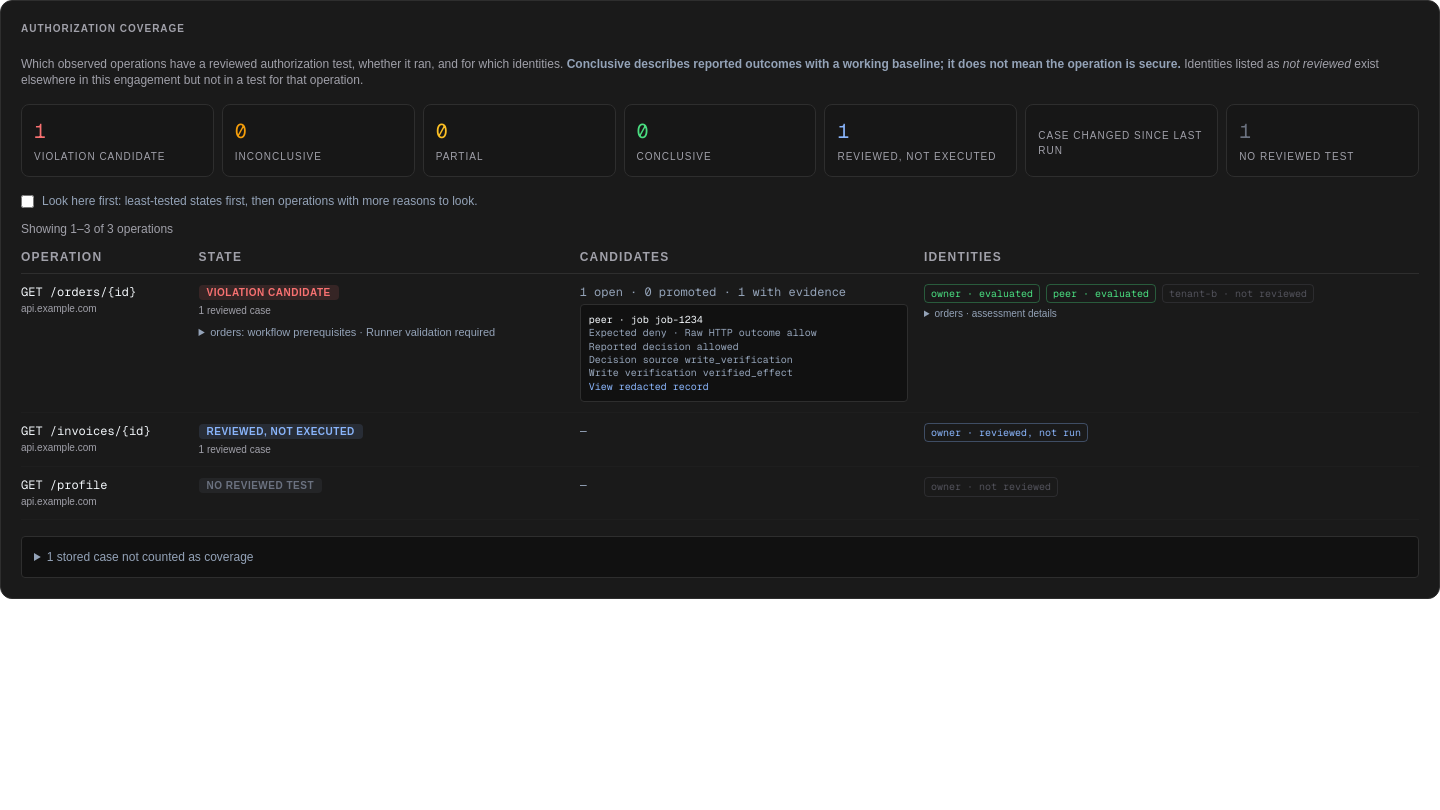
it: AuthorizationCoveragePanel evidence › reports an unavailable reference without falling back to another row
What coordinates should you click on to do the following:
click the button "View redacted record"
I would click on:
 (649, 386)
Its box is [589,380,709,393].
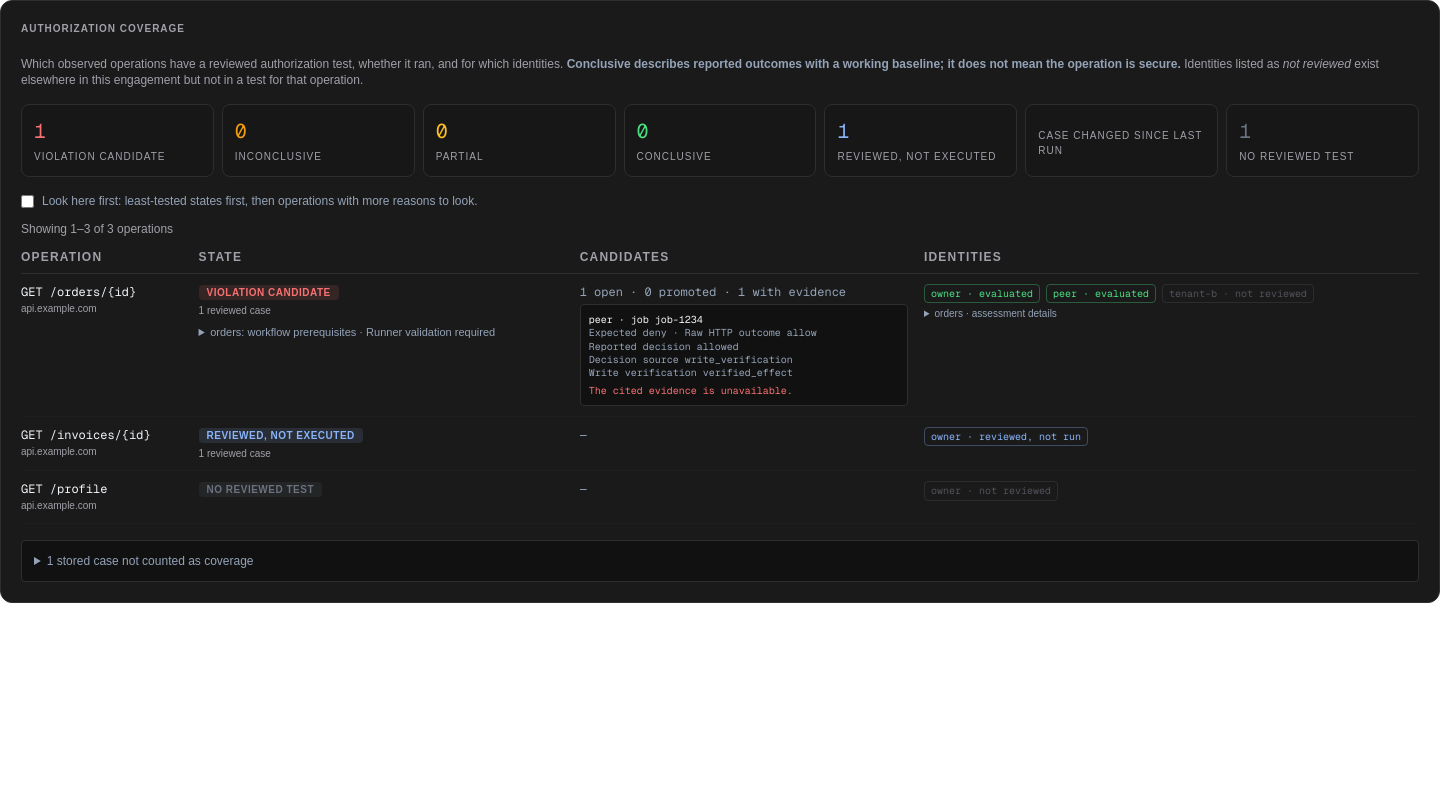
Check: the text "The cited evidence is unavailable." is shown, box [589,384,793,397]
